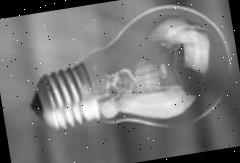lightbulb: (17, 0, 239, 147)
